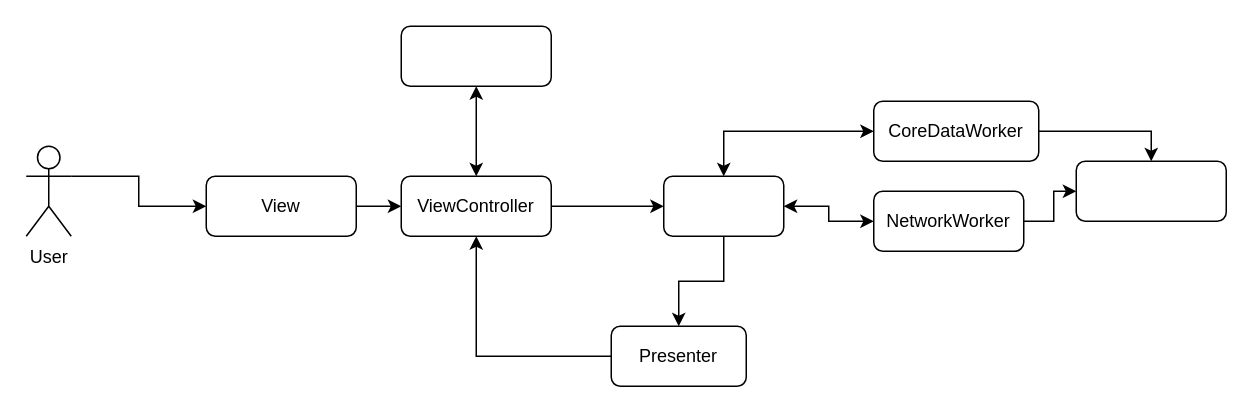
This 1253x413 diagram has some shape labels left out. The centre of each missing label's shape, as x and y in pixels:
Interactor: [723,205]
Model: [1150,190]
Router: [475,55]
